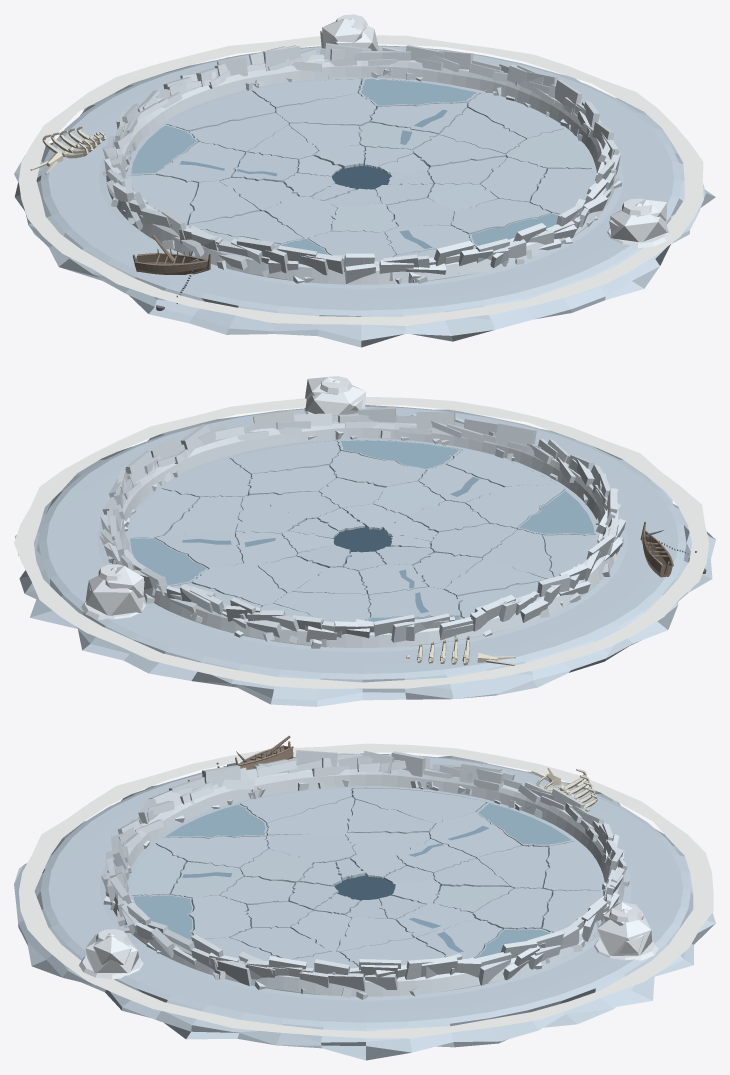
The model's file is arena_rimefang.glb.
3 views of the same model, one above another, from view 1: azimuth 30°, elevation 25°; view 2: azimuth 150°, elevation 25°; view 3: azimuth 270°, elevation 25° (orthographic).
Visible parts, largest first — view 1: RimefangArena_Base, RimefangArena_Ridge, RimefangArena_Foam, RimefangArena_ThinIce, RimefangArena_Bergs, RimefangArena_Shard27, RimefangArena_Shard37, RimefangArena_Shard29, RimefangArena_Shard41, RimefangArena_Shard28, RimefangArena_Shard23, RimefangArena_Shard36 (+33 smaller); view 2: RimefangArena_Base, RimefangArena_Ridge, RimefangArena_Foam, RimefangArena_ThinIce, RimefangArena_Bergs, RimefangArena_Shard33, RimefangArena_Shard27, RimefangArena_Shard36, RimefangArena_Shard37, RimefangArena_Shard29, RimefangArena_Shard23, RimefangArena_Shard28 (+33 smaller); view 3: RimefangArena_Base, RimefangArena_Ridge, RimefangArena_Foam, RimefangArena_ThinIce, RimefangArena_Bergs, RimefangArena_Shard43, RimefangArena_Shard33, RimefangArena_Shard27, RimefangArena_Shard29, RimefangArena_Shard41, RimefangArena_Shard28, RimefangArena_Shard23 (+34 smaller).
Part boxes in pixels (x1,y1,x2,y2): RimefangArena_Base: (14, 45, 715, 347); RimefangArena_Ridge: (102, 43, 621, 284); RimefangArena_Foam: (18, 35, 703, 325); RimefangArena_ThinIce: (131, 79, 558, 254); RimefangArena_Bergs: (320, 14, 670, 248); RimefangArena_Shard27: (276, 93, 376, 126); RimefangArena_Shard37: (506, 129, 591, 169); RimefangArena_Shard29: (156, 141, 244, 184); RimefangArena_Shard41: (166, 91, 275, 131); RimefangArena_Shard28: (189, 113, 288, 153); RimefangArena_Shard23: (451, 198, 550, 235); RimefangArena_Shard36: (530, 168, 592, 214); RimefangArena_Base: (15, 405, 715, 706); RimefangArena_Ridge: (99, 406, 625, 648); RimefangArena_Foam: (14, 396, 709, 688); RimefangArena_ThinIce: (130, 440, 594, 621); RimefangArena_Bergs: (81, 376, 366, 619); RimefangArena_Shard33: (465, 484, 564, 528); RimefangArena_Shard27: (192, 563, 286, 606); RimefangArena_Shard36: (230, 441, 339, 475); RimefangArena_Shard37: (162, 458, 251, 498); RimefangArena_Shard29: (368, 587, 461, 617); RimefangArena_Shard23: (330, 451, 426, 487); RimefangArena_Shard28: (273, 592, 370, 621); RimefangArena_Base: (14, 753, 715, 1060); RimefangArena_Ridge: (101, 750, 629, 999); RimefangArena_Foam: (19, 743, 713, 1038); RimefangArena_ThinIce: (133, 803, 570, 958); RimefangArena_Bergs: (79, 902, 658, 979); RimefangArena_Shard43: (352, 788, 486, 824); RimefangArena_Shard33: (156, 836, 268, 868); RimefangArena_Shard27: (473, 888, 552, 929); RimefangArena_Shard29: (429, 812, 521, 858); RimefangArena_Shard41: (543, 841, 600, 891); RimefangArena_Shard28: (477, 845, 548, 888); RimefangArena_Shard23: (189, 895, 251, 938).
Size of the model in its own units: 365 by 34.35 by 358.
